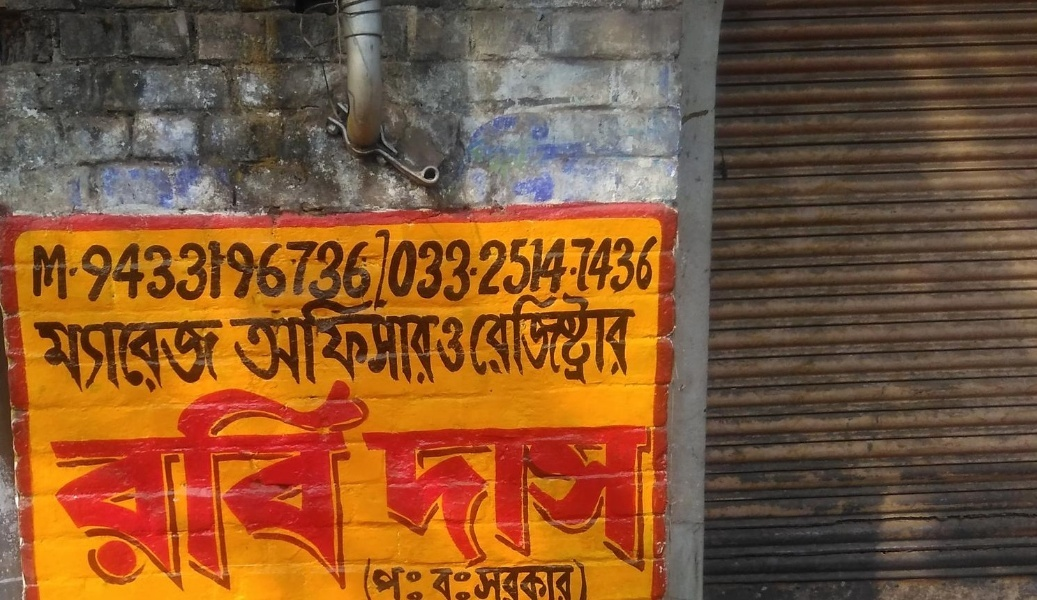text: (49, 378, 64, 596), (65, 378, 80, 596), (81, 378, 96, 596), (97, 378, 112, 596), (113, 378, 128, 596), (129, 378, 144, 596), (145, 378, 160, 596), (161, 378, 176, 596), (177, 378, 192, 596), (193, 378, 208, 596), (209, 378, 224, 596), (225, 378, 240, 596), (241, 378, 256, 596), (257, 378, 272, 596), (273, 378, 288, 596), (289, 378, 304, 596), (305, 378, 320, 596), (321, 378, 336, 596), (337, 378, 352, 596), (353, 378, 368, 596), (37, 378, 48, 596), (369, 425, 384, 570), (385, 425, 400, 570), (401, 425, 416, 570), (417, 425, 432, 570), (433, 425, 448, 570), (449, 425, 464, 570), (465, 425, 480, 570), (481, 425, 496, 570), (497, 425, 512, 570), (513, 425, 528, 570), (529, 425, 544, 570), (545, 425, 560, 570), (561, 425, 576, 570), (577, 425, 592, 570), (593, 425, 608, 570), (609, 425, 624, 570), (625, 425, 640, 570), (369, 378, 378, 596), (358, 425, 368, 570), (241, 296, 256, 390), (257, 296, 272, 390), (273, 296, 288, 390), (289, 296, 304, 390), (305, 296, 320, 390), (321, 296, 336, 390), (337, 296, 352, 390), (353, 296, 368, 390), (369, 296, 384, 390), (385, 296, 400, 390), (401, 296, 416, 390), (417, 296, 432, 390), (481, 295, 496, 386), (497, 295, 512, 386), (513, 295, 528, 386), (529, 295, 544, 386), (545, 295, 560, 386), (561, 295, 576, 386), (577, 295, 592, 386), (593, 295, 608, 386), (609, 295, 624, 386), (33, 225, 48, 312), (49, 225, 64, 312), (65, 225, 80, 312), (81, 225, 96, 312), (97, 225, 112, 312), (113, 225, 128, 312), (129, 225, 144, 312), (145, 225, 160, 312), (161, 225, 176, 312), (177, 225, 192, 312), (193, 225, 208, 312), (209, 225, 224, 312), (225, 225, 240, 312), (241, 225, 256, 312), (257, 225, 272, 312), (273, 225, 288, 312), (289, 225, 304, 312), (305, 225, 320, 312), (321, 225, 336, 312), (337, 225, 352, 312), (353, 225, 368, 312), (369, 225, 384, 312), (385, 225, 400, 312), (401, 225, 416, 312), (417, 225, 432, 312), (433, 225, 448, 312), (449, 225, 464, 312), (465, 225, 480, 312), (481, 225, 496, 312), (497, 225, 512, 312), (513, 225, 528, 312), (529, 225, 544, 312), (545, 225, 560, 312), (561, 225, 576, 312), (577, 225, 592, 312), (593, 225, 608, 312), (609, 225, 624, 312), (625, 225, 640, 312), (641, 225, 656, 312), (227, 296, 240, 390), (467, 295, 480, 386), (33, 319, 48, 395), (49, 319, 64, 395), (65, 319, 80, 395), (81, 319, 96, 395), (97, 319, 112, 395), (113, 319, 128, 395), (129, 319, 144, 395), (145, 319, 160, 395), (161, 319, 176, 395), (177, 319, 192, 395), (193, 319, 208, 395), (657, 225, 670, 312), (625, 295, 636, 386), (209, 319, 222, 395), (449, 314, 464, 374), (641, 425, 647, 570), (369, 554, 384, 600), (385, 554, 400, 600), (401, 554, 416, 600), (417, 554, 432, 600), (433, 554, 448, 600), (449, 554, 464, 600), (465, 554, 480, 600), (481, 554, 496, 600), (497, 554, 512, 600), (513, 554, 528, 600), (529, 554, 544, 600), (545, 554, 560, 600), (561, 554, 576, 600), (437, 314, 448, 374), (577, 554, 590, 600), (433, 296, 439, 390), (363, 554, 368, 600), (30, 225, 32, 312), (465, 314, 467, 374)
